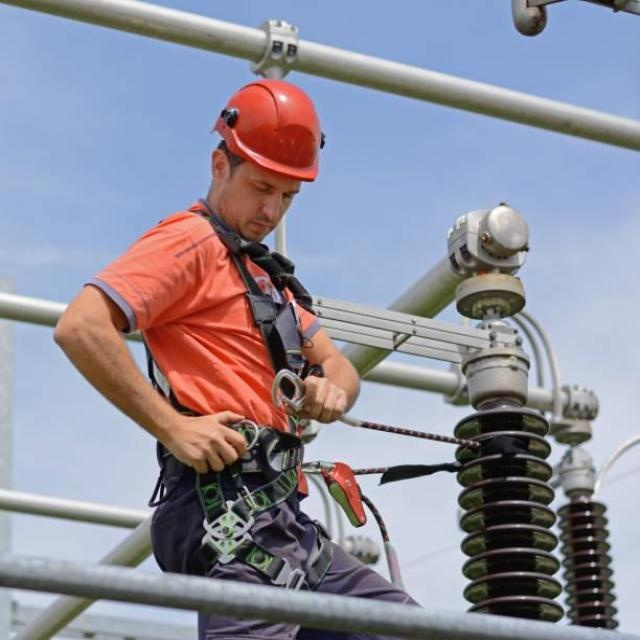Arnes_seguridad: (140, 206, 338, 598)
